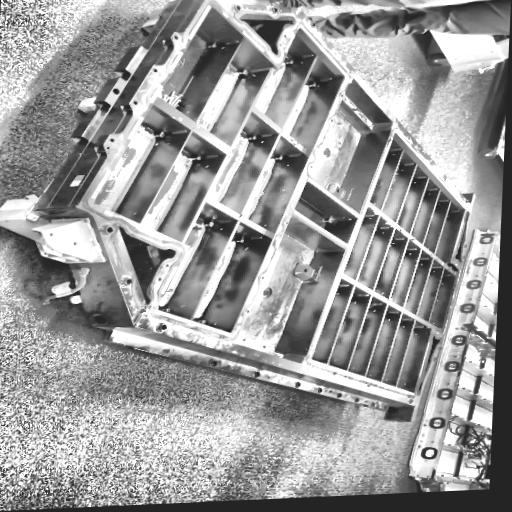b_casing: (74, 0, 472, 406)
